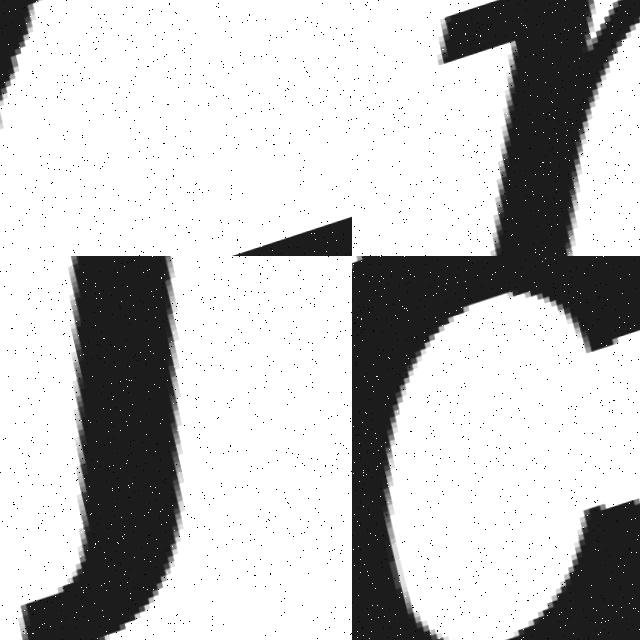C: (352, 256, 640, 640)
J: (0, 256, 290, 640)
R: (0, 0, 352, 256), (352, 0, 640, 256)
